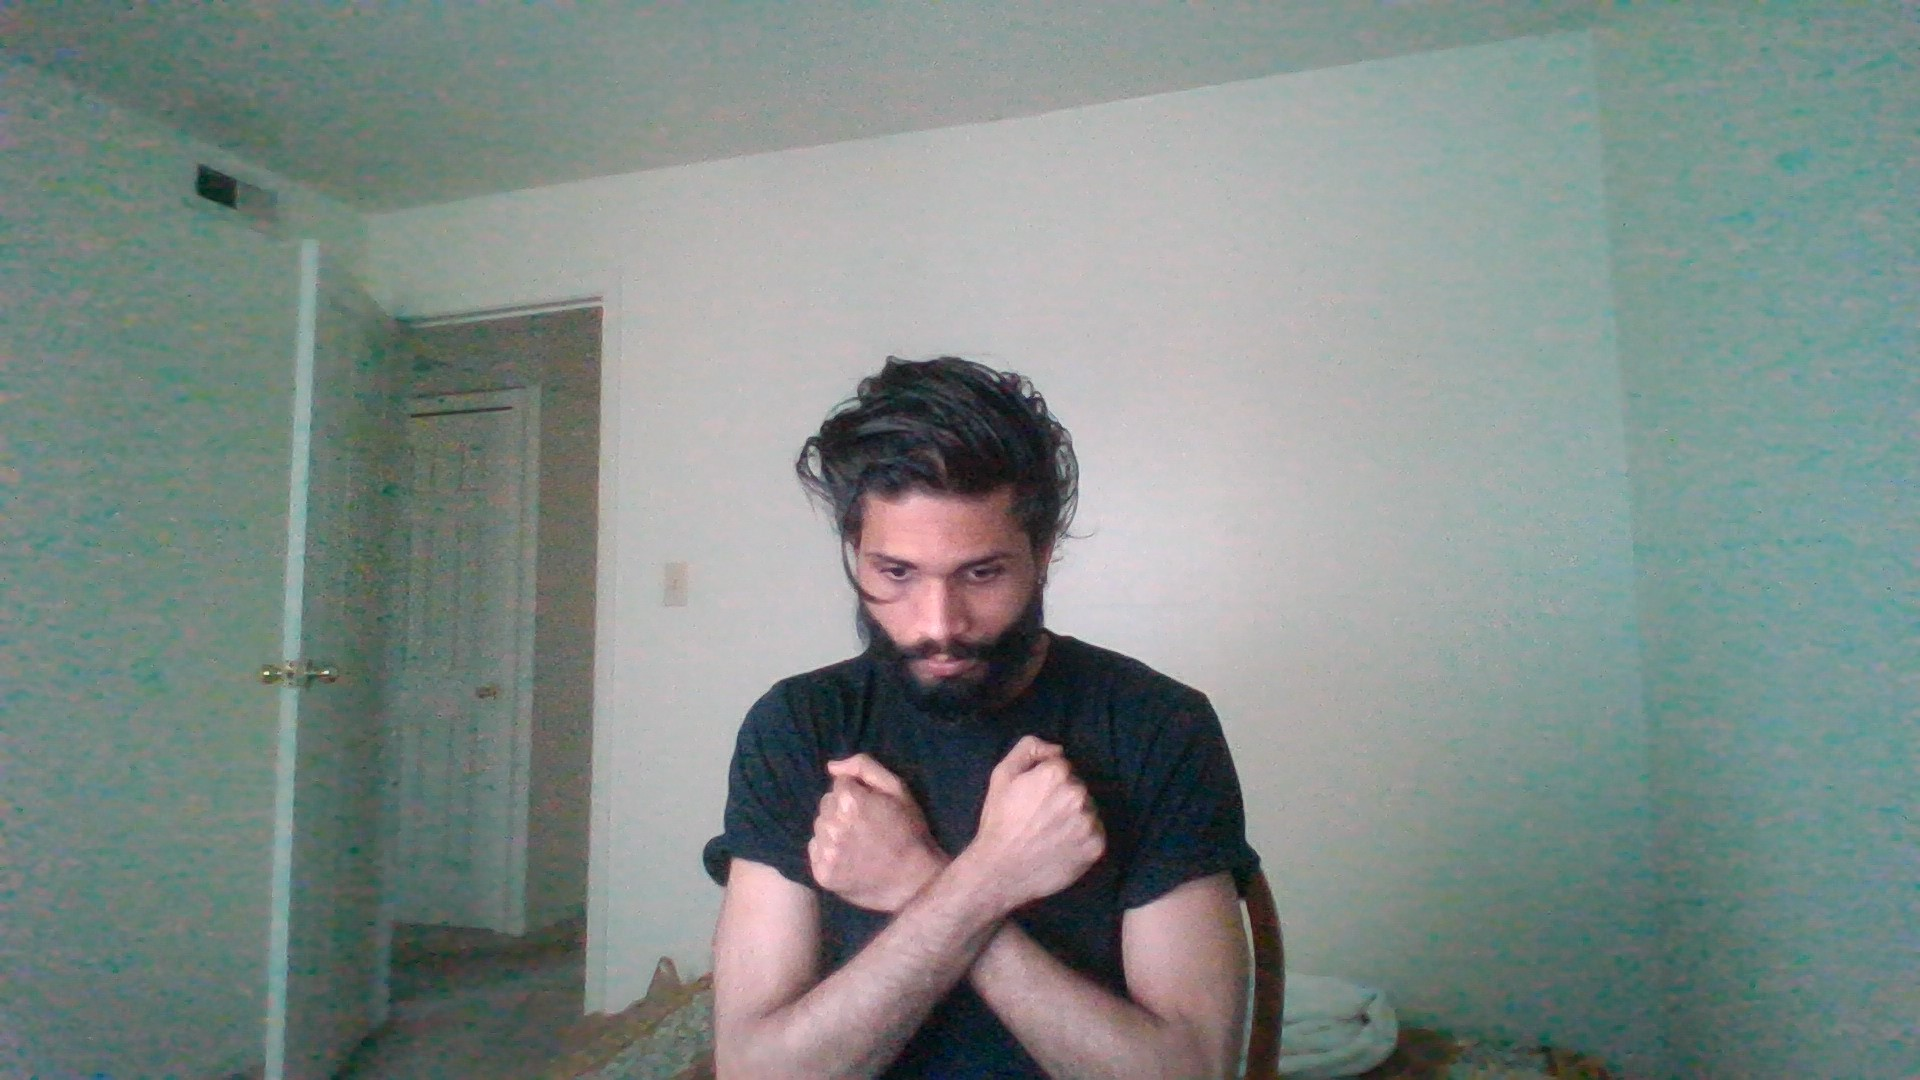Love: (793, 715, 1134, 1072)
